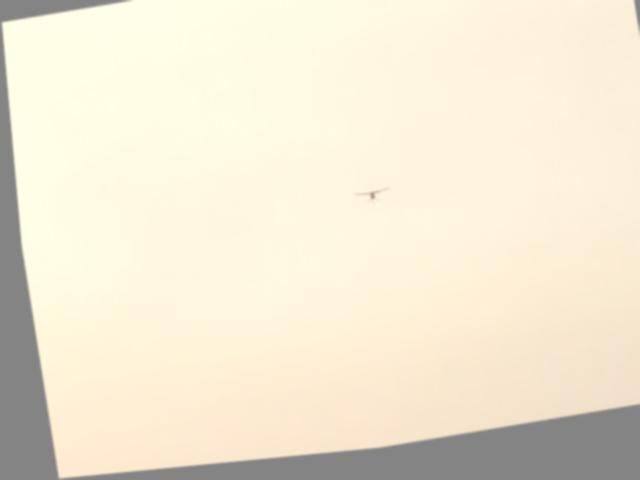plane: (349, 193, 388, 213)
